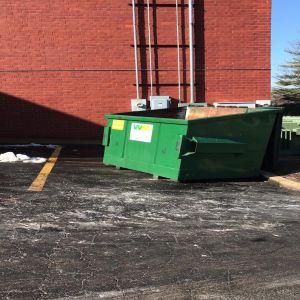Dumpster: (100, 104, 286, 187)
